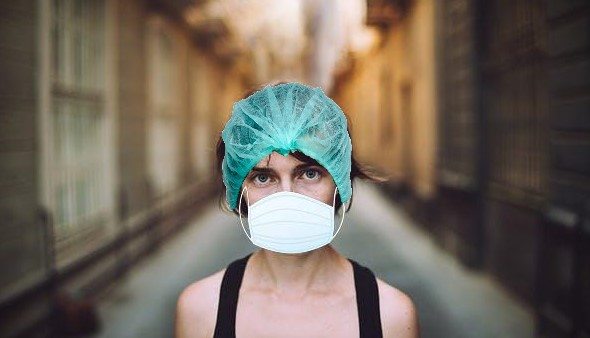with_mask_and_cap: (223, 86, 353, 253)
